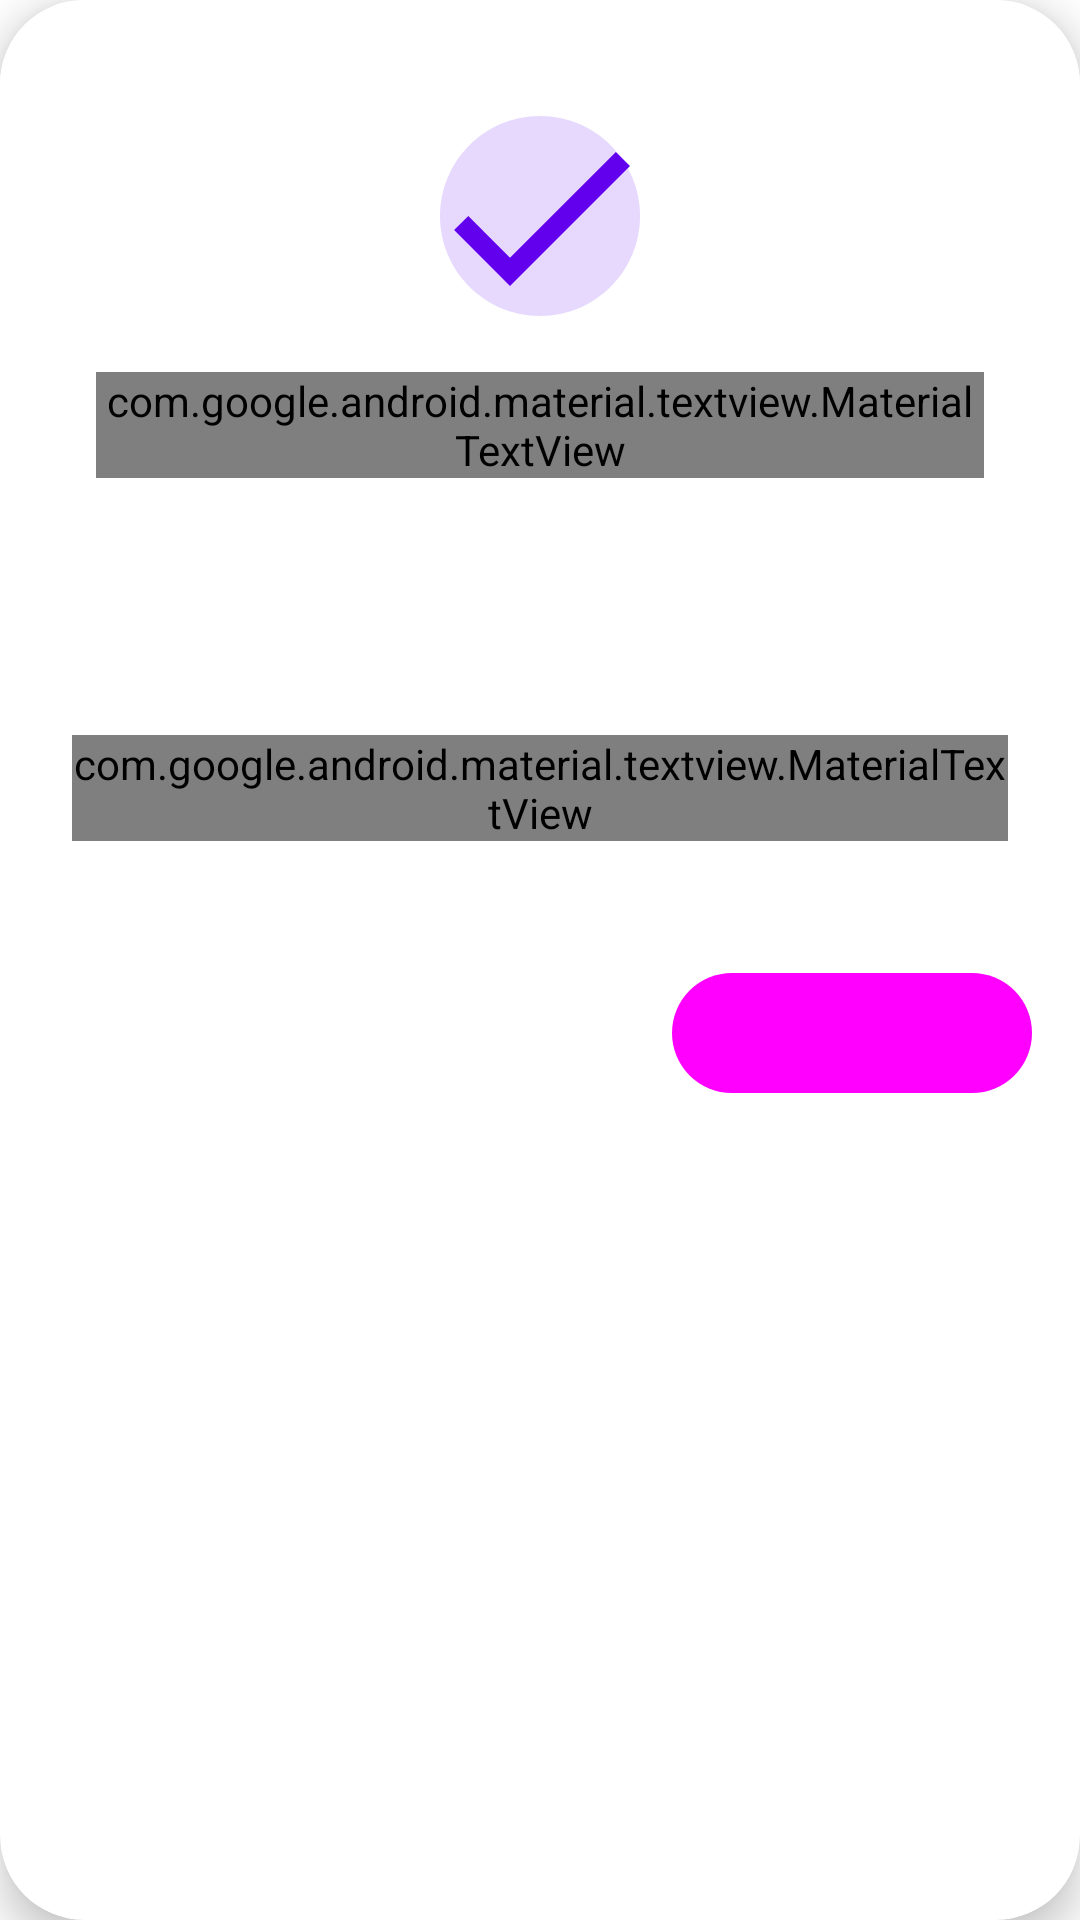

Locate icon controls on the screen. Image size 1080px×1920px, boxes as (x1=x1, y1=y1, x2=x2, y2=y2).
success check: (x1=440, y1=116, x2=640, y2=316)
